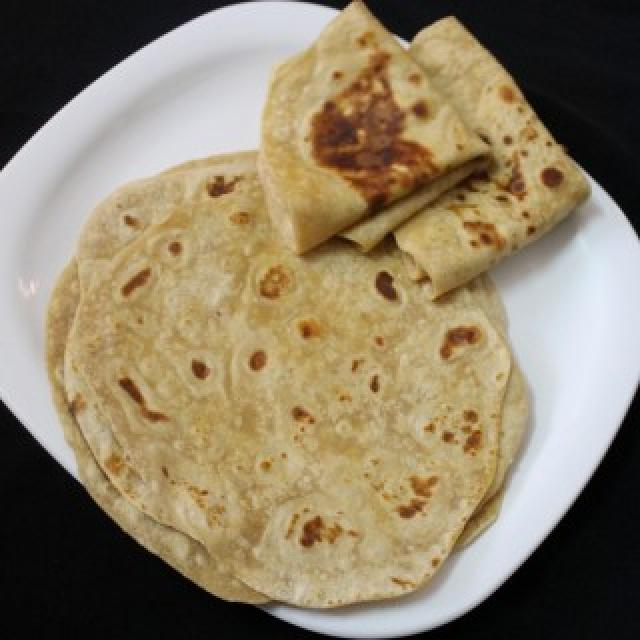roti: (37, 1, 594, 606)
